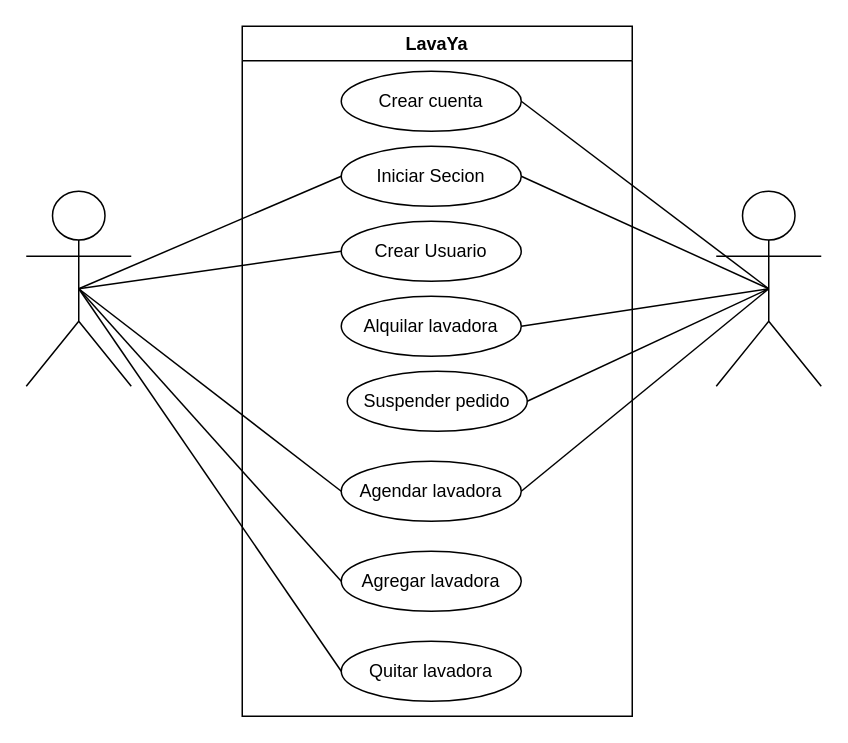
Image size: 848x743. Some labels were removed from this diagram. Each missing label, with the centre of its shape:
Cliente: the point at 768,288
Gerente: the point at 78,288
